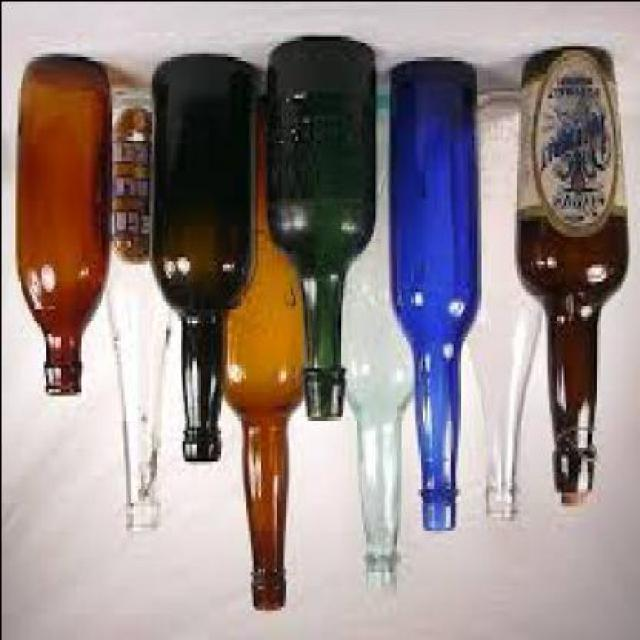GLASS: (515, 48, 631, 494), (221, 97, 308, 612), (148, 59, 257, 464), (390, 62, 482, 530), (268, 35, 377, 422), (336, 93, 415, 592), (466, 90, 542, 519), (18, 51, 111, 398), (106, 83, 172, 529)
